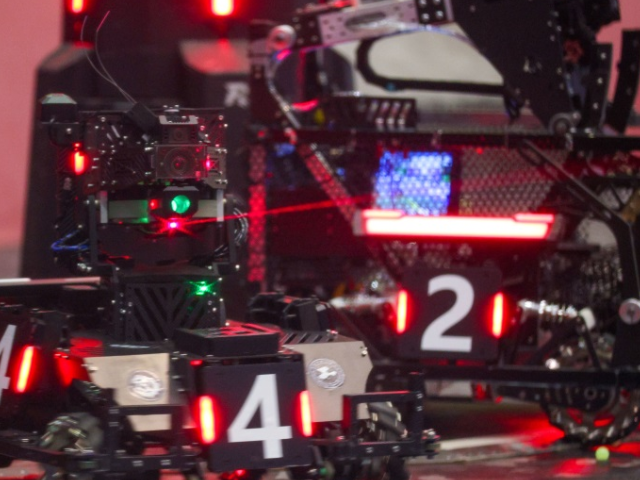rm: (250, 3, 640, 442), (0, 107, 440, 480)
